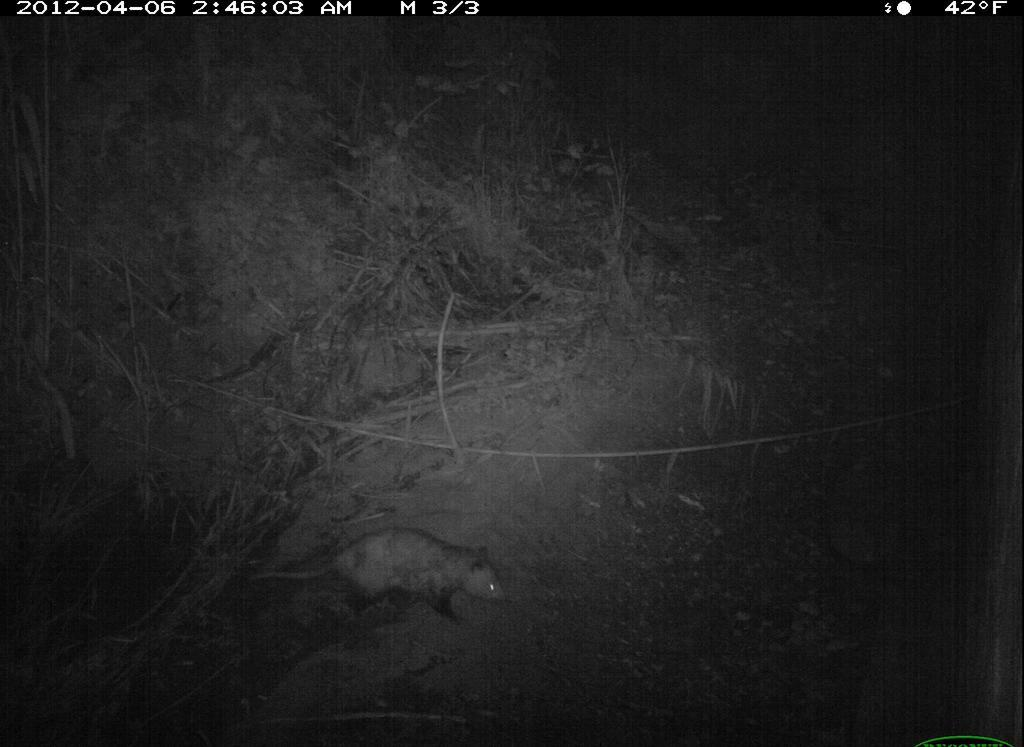opossum: (246, 525, 510, 621)
